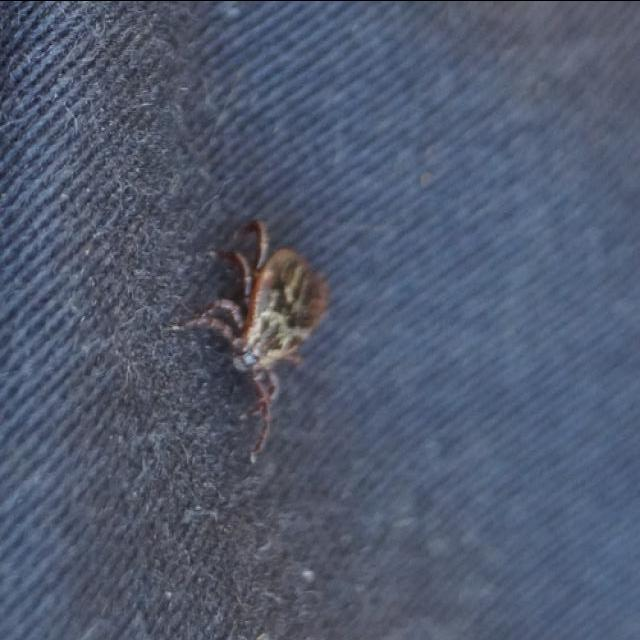Dermacentor Reticulatus-M: (174, 218, 332, 452)
